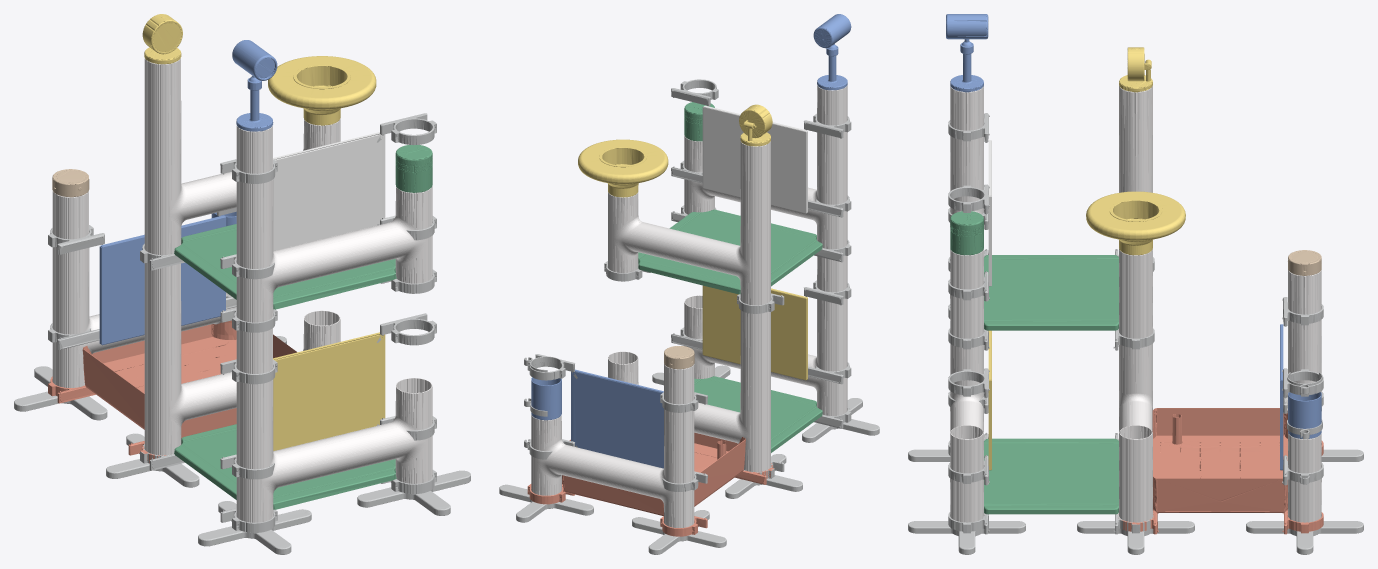
The model's file is og-system.glb.
3 renders of one model, left to right at view 1: azimuth 30°, elevation 25°; view 2: azimuth 150°, elevation 25°; view 3: azimuth 270°, elevation 25°, orthographic. The views are drawn at different scales.
Visible parts, largest first — view 1: base|1, base|2, pegboard|19, whiteboard|17, base|4, base|5, planter|16, softboard|21, base|8, shelf|12, shelf|14, grow|23 (+13 smaller); view 2: base|5, base|8, softboard|21, base|4, whiteboard|17, base|2, base|1, pegboard|19, shelf|14, planter|16, grow|23, shelf|12 (+14 smaller); view 3: planter|16, shelf|12, shelf|14, base|5, base|4, base|2, base|8, base|1, grow|23, whiteboard|18, spot|25, softboard|22 (+12 smaller).
Boxes of the visible parts, left/top/right/bottom form: base|1: left=236, top=328, right=432, bottom=522; base|2: left=236, top=125, right=432, bottom=322; pegboard|19: left=273, top=332, right=385, bottom=450; whiteboard|17: left=273, top=132, right=385, bottom=250; base|4: left=144, top=262, right=340, bottom=455; base|5: left=144, top=58, right=340, bottom=255; planter|16: left=48, top=320, right=296, bottom=463; softboard|21: left=99, top=215, right=225, bottom=345; base|8: left=52, top=191, right=236, bottom=387; shelf|12: left=174, top=424, right=396, bottom=509; shelf|14: left=174, top=224, right=396, bottom=309; grow|23: left=268, top=56, right=376, bottom=125; base|5: left=608, top=141, right=770, bottom=305; base|8: left=531, top=364, right=694, bottom=527; softboard|21: left=571, top=369, right=663, bottom=468; base|4: left=608, top=310, right=770, bottom=471; whiteboard|17: left=702, top=105, right=807, bottom=213; base|2: left=684, top=85, right=847, bottom=249; base|1: left=684, top=255, right=847, bottom=415; pegboard|19: left=702, top=285, right=807, bottom=380; shelf|14: left=638, top=209, right=822, bottom=294; planter|16: left=527, top=432, right=773, bottom=536; grow|23: left=578, top=139, right=668, bottom=197; shelf|12: left=694, top=376, right=822, bottom=452; planter|16: left=1118, top=408, right=1323, bottom=534; shelf|12: left=984, top=438, right=1118, bottom=514; shelf|14: left=984, top=255, right=1118, bottom=330; base|5: left=1119, top=86, right=1152, bottom=338; base|4: left=1119, top=344, right=1152, bottom=522; base|2: left=950, top=86, right=983, bottom=338; base|8: left=1288, top=269, right=1321, bottom=522; base|1: left=950, top=344, right=983, bottom=522; grow|23: left=1086, top=191, right=1185, bottom=255; whiteboard|18: left=948, top=113, right=989, bottom=301; spot|25: left=946, top=14, right=988, bottom=92; softboard|22: left=1282, top=297, right=1323, bottom=485.
Size of the model in its own units: 0.8625 by 1.47 by 1.37.
